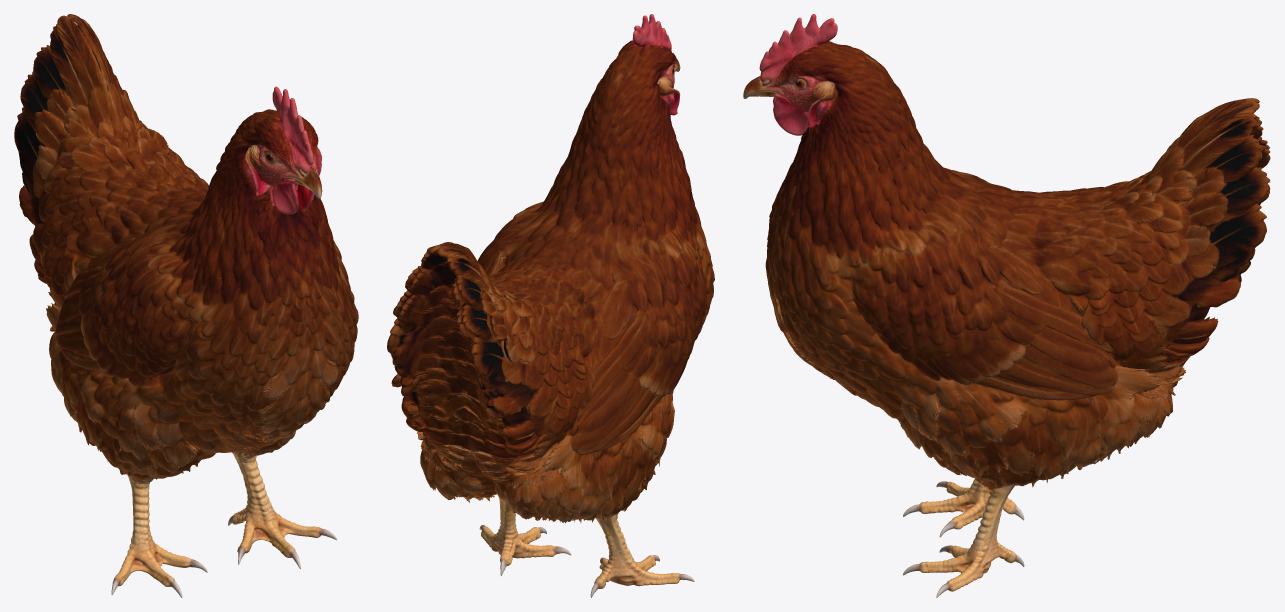
The model's file is chicken.glb.
3 renders of one model, left to right at view 1: azimuth 30°, elevation 25°; view 2: azimuth 150°, elevation 25°; view 3: azimuth 270°, elevation 25°, orthographic. The views are drawn at different scales.
Parts seen in each view (by area): view 1: chicken; view 2: chicken; view 3: chicken.
Boxes of the visible parts, <box> form: chicken: <box>14,14,358,597</box>; chicken: <box>387,14,714,597</box>; chicken: <box>743,14,1270,597</box>.
Size of the model in its own units: 0.2016 by 0.45 by 0.4043.
1 material, 1 textured.
